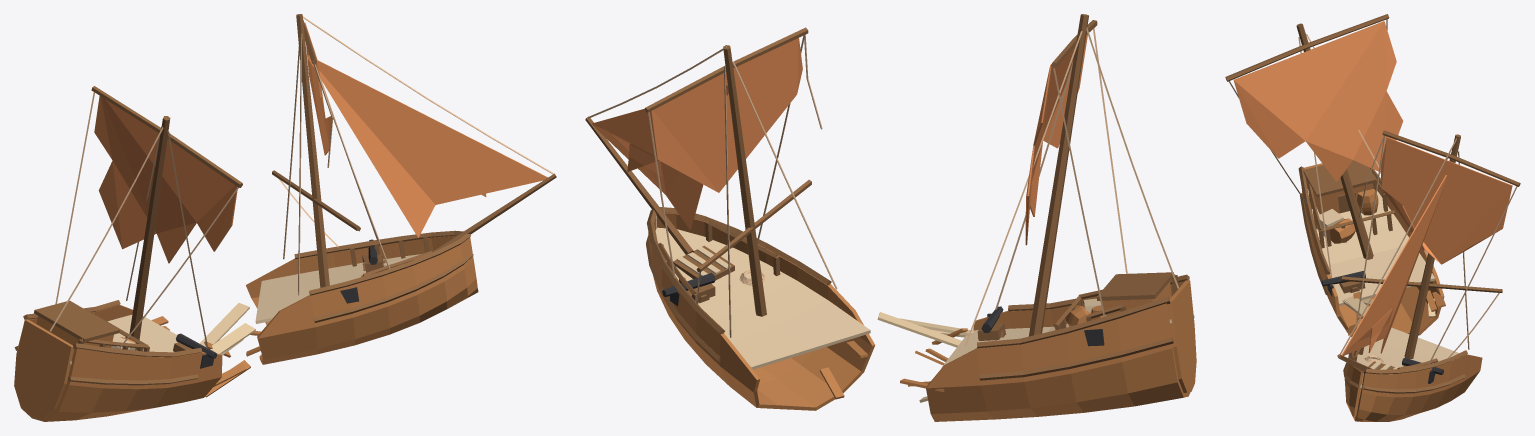
File: wreckedship.fbx
3 views of the same model, side by side, from view 1: azimuth 30°, elevation 25°; view 2: azimuth 150°, elevation 25°; view 3: azimuth 270°, elevation 25° (orthographic). The views are drawn at different scales.
Visible parts, largest first — view 1: Hull_Bow, Bow_Jib, Hull_Stern, Stern_Sail, Hull_Bow_Deck, Bow_Mast, Stern_Mast, Stern_Cabin_Roof, Hull_Stern_Deck, Stern_Yard, Bow_Sail, Hull_Bow_Rail_P (+12 smaller); view 2: Hull_Stern, Bow_Sail, Hull_Bow, Hull_Bow_Deck, Bow_Jib, Stern_Mast, Stern_Sail, Bow_Mast, Stern_Cabin_Roof, Hull_Stern_Wale_S, Hull_Stern_Rail_S, Bowsprit (+15 smaller); view 3: Stern_Sail, Bow_Sail, Hull_Bow, Hull_Stern_Deck, Bow_Jib, Hull_Stern, Hull_Bow_Deck, Stern_Cabin_Roof, Bow_Mast, Stern_Mast, Stern_Yard, Bow_Yard_Top (+12 smaller).
Part boxes in pixels (x1,y1,x2,y2): Hull_Bow: (246,236,478,364); Bow_Jib: (306,55,547,237); Hull_Stern: (14,304,222,421); Stern_Sail: (94,96,237,263); Hull_Bow_Deck: (255,254,420,323); Bow_Mast: (296,14,329,287); Stern_Mast: (129,116,170,350); Stern_Cabin_Roof: (34,300,119,342); Hull_Stern_Deck: (69,314,177,364); Stern_Yard: (91,86,242,187); Bow_Sail: (304,22,331,155); Hull_Bow_Rail_P: (309,233,470,295); Hull_Stern: (926,280,1196,421); Bow_Sail: (650,38,802,192); Hull_Bow: (648,213,875,410); Hull_Bow_Deck: (655,227,870,369); Bow_Jib: (592,85,728,229); Stern_Mast: (1028,14,1088,336); Stern_Sail: (1025,34,1087,245); Bow_Mast: (723,45,766,316); Stern_Cabin_Roof: (1096,272,1173,300); Hull_Stern_Wale_S: (979,337,1173,380); Hull_Stern_Rail_S: (977,297,1170,348); Bowsprit: (585,116,693,254); Stern_Sail: (1233,21,1403,181); Bow_Sail: (1380,137,1512,264); Hull_Bow: (1344,351,1482,421); Hull_Stern_Deck: (1307,189,1435,305); Bow_Jib: (1341,175,1446,355); Hull_Stern: (1301,163,1444,335); Hull_Bow_Deck: (1356,327,1459,387); Stern_Cabin_Roof: (1303,160,1376,197); Bow_Mast: (1404,134,1460,358); Stern_Mast: (1296,23,1373,259); Stern_Yard: (1225,14,1389,81); Bow_Yard_Top: (1382,130,1520,186).
Size of the model in its own units: 1346 by 811 by 734.
